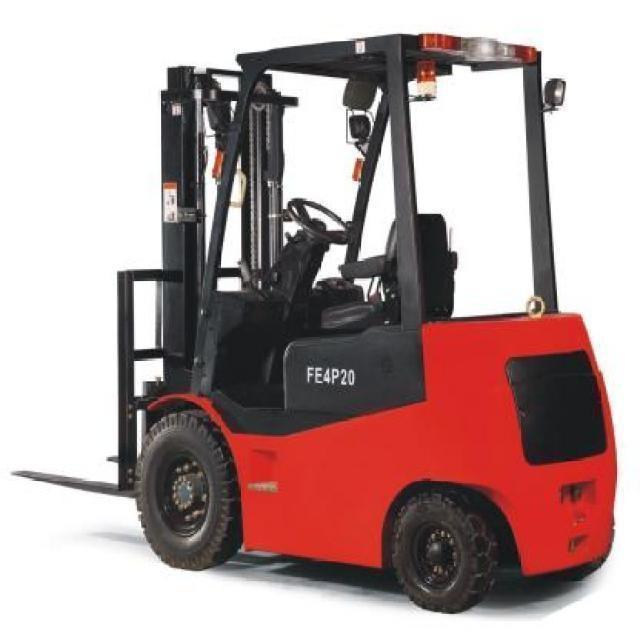forklift: (4, 33, 621, 613)
